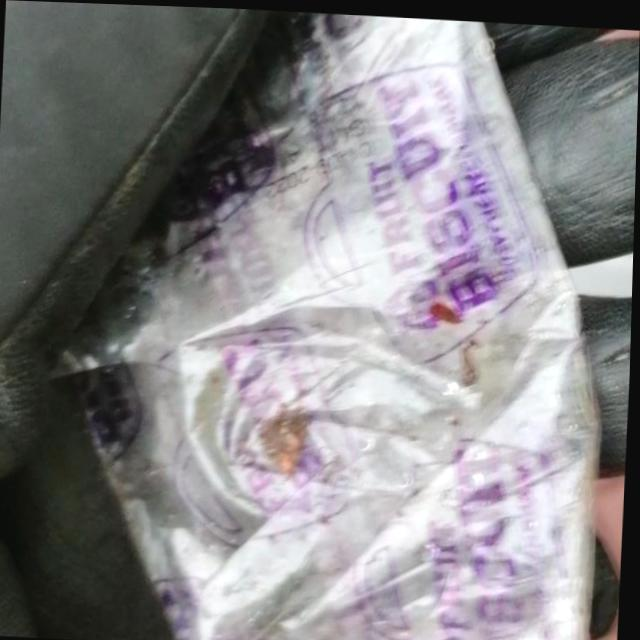Plastic: (33, 1, 621, 640)
